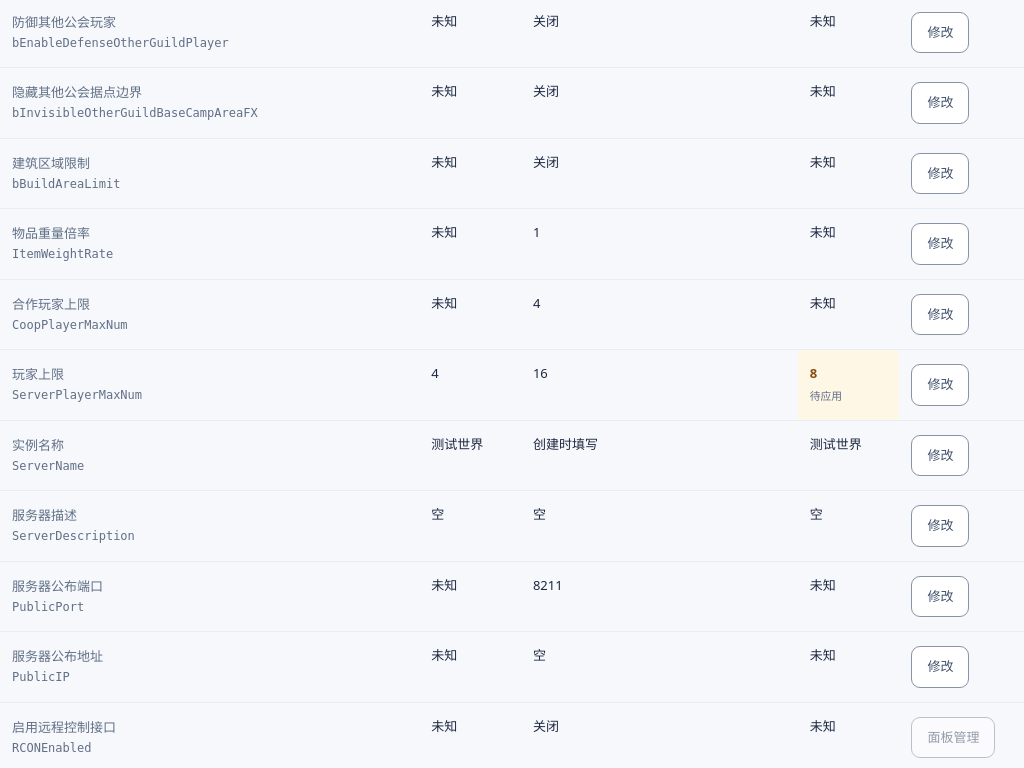
参数列表编辑 › 分别显示当前、默认和草稿，弹窗确认仅更新指定草稿字段
(page scrolled)
Expected: the text "4" in the row of "ServerPlayerMaxNum" is shown, [431,364,439,382]
Expected: the text "16" is shown, [521,350,798,420]
Click the button with aria-label "修改玩家上限": (940, 385) [911,364,969,406]
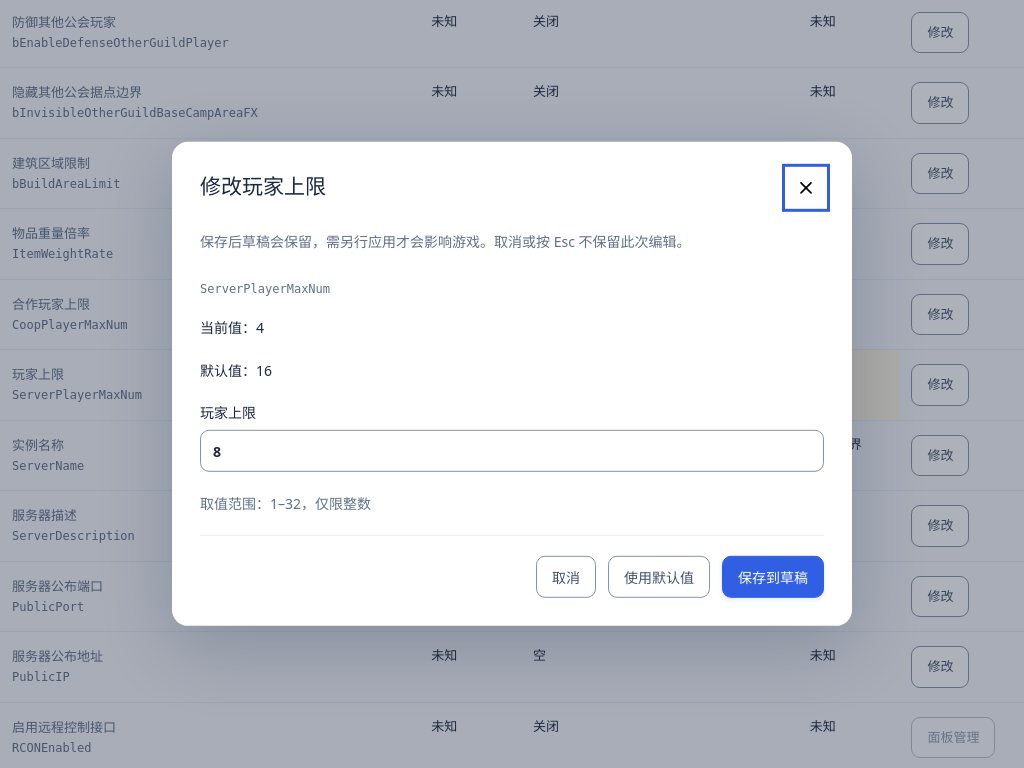
Clear the number field labelled "玩家上限": (512, 451) [200,430,824,472]
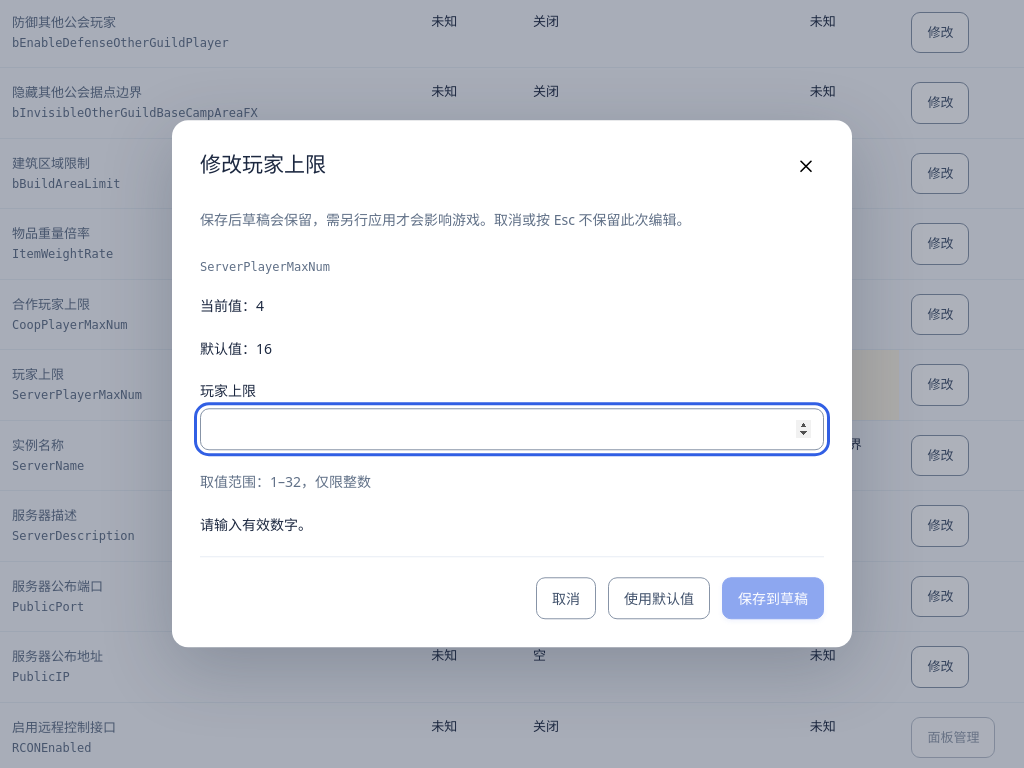
In the number field labelled "玩家上限": (512, 430) [200,408,824,450], type "12"
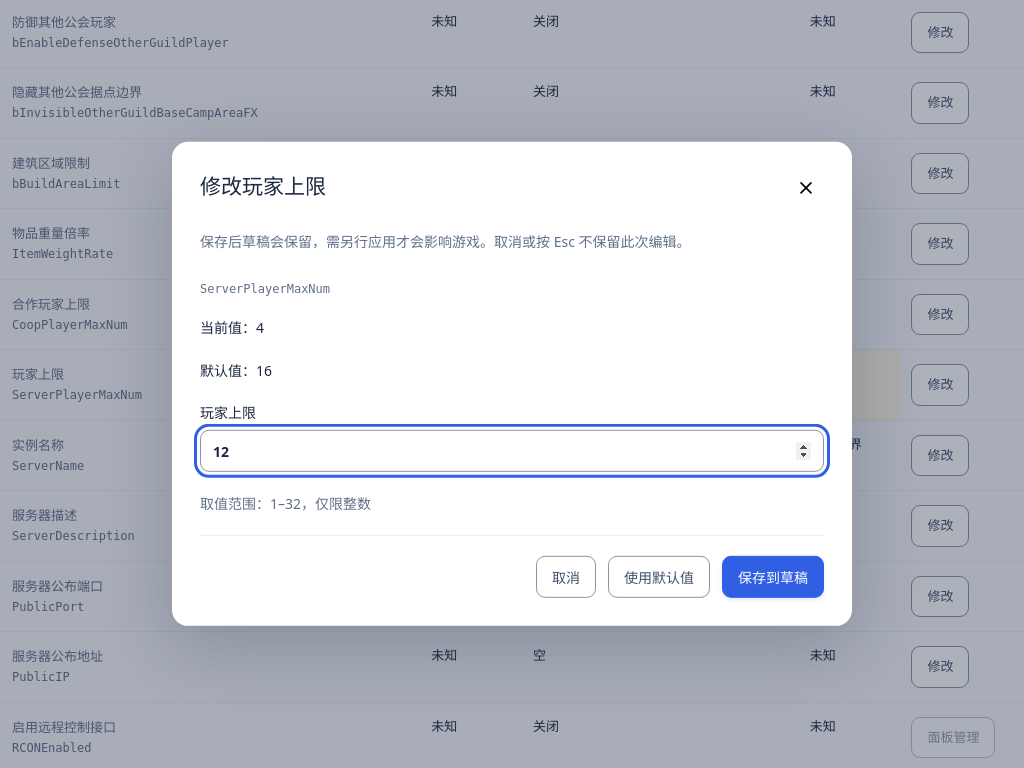
Click the button "保存到草稿": (773, 577) [722,556,824,598]
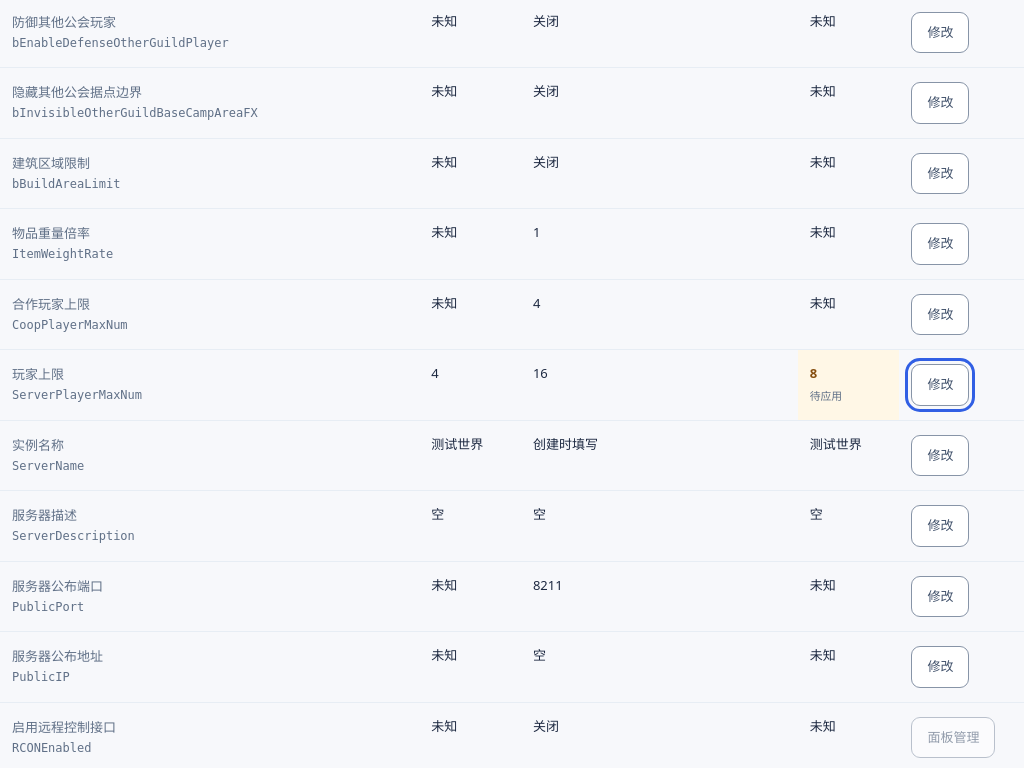
Result: the dialog is gone
